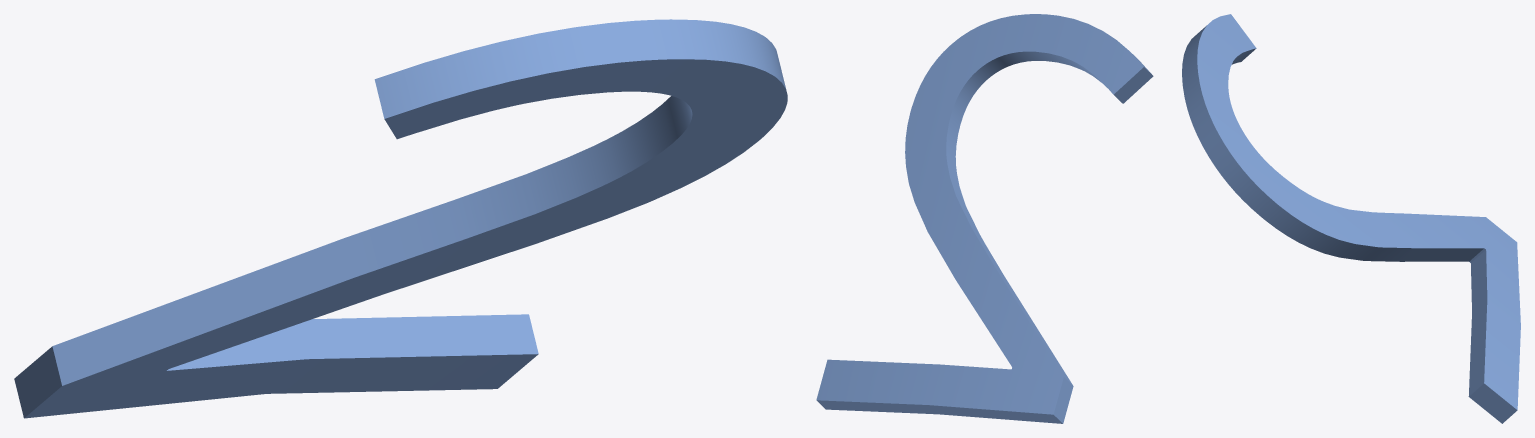
The model's file is Number_2.gltf.
3 views of the same model, side by side, from view 1: azimuth 30°, elevation 25°; view 2: azimuth 150°, elevation 25°; view 3: azimuth 270°, elevation 25° (orthographic). The views are drawn at different scales.
Parts seen in each view (by area): view 1: Sub_3_Cell_3_3_Number_2; view 2: Sub_3_Cell_3_3_Number_2; view 3: Sub_3_Cell_3_3_Number_2.
Boxes of the visible parts, x1,y1,x2,y2 form: Sub_3_Cell_3_3_Number_2: (14, 19, 787, 418); Sub_3_Cell_3_3_Number_2: (816, 14, 1153, 423); Sub_3_Cell_3_3_Number_2: (1182, 14, 1520, 423).
Bounding box in the file's own units: 0.0178 × 0.0205 × 0.0191.
